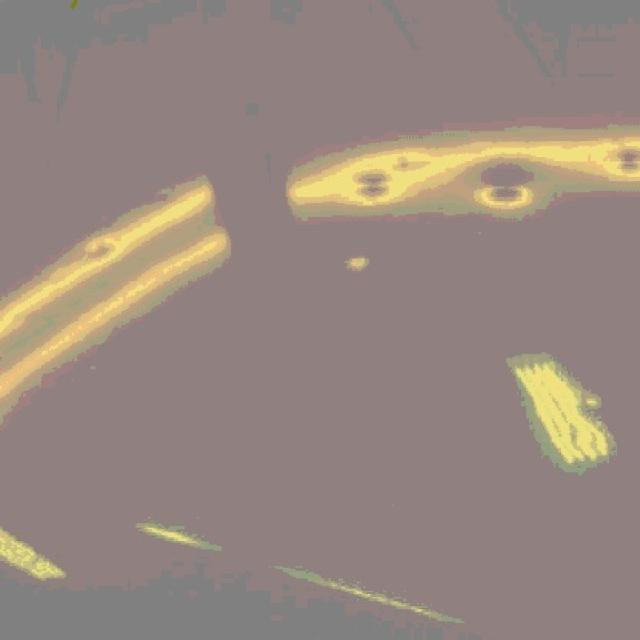dent: (481, 182, 534, 208), (609, 143, 640, 177), (357, 170, 390, 199), (88, 238, 114, 260), (345, 256, 370, 273), (395, 157, 417, 172)
